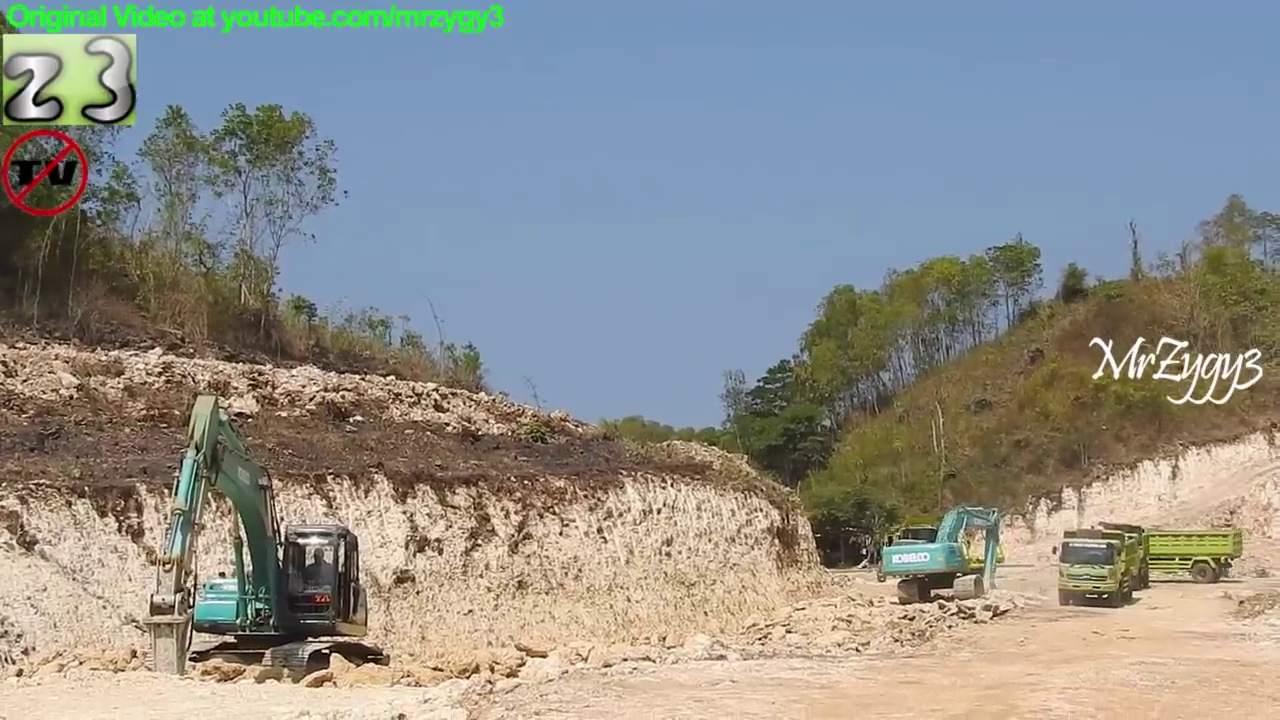excavator: (878, 505, 1010, 603)
excavator breaker: (134, 392, 392, 688)
truck: (1085, 519, 1246, 586), (1050, 527, 1137, 613), (1065, 521, 1153, 595)
